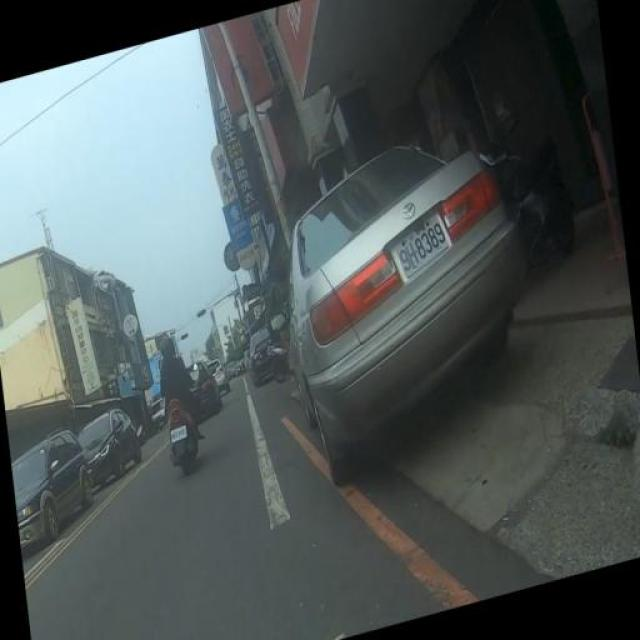illegalparking: (235, 134, 577, 506)
